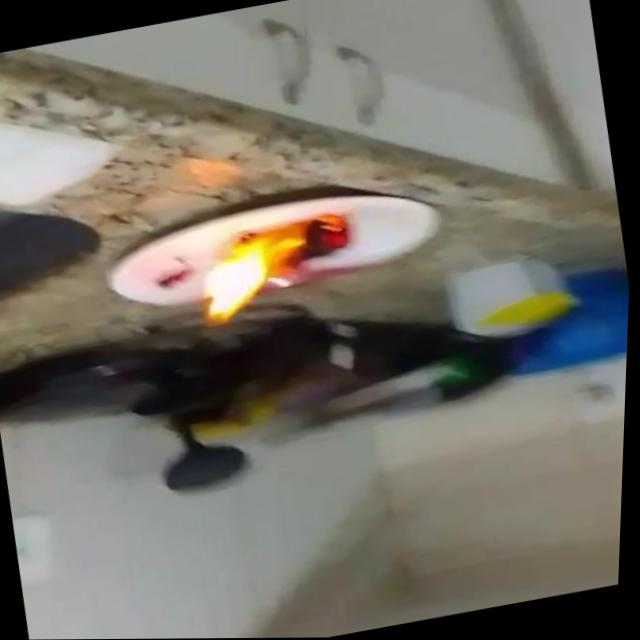Fire: (185, 202, 366, 330)
